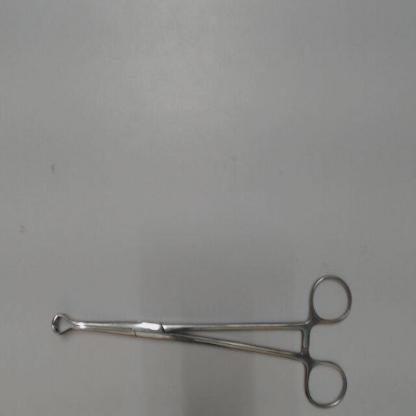8 Babcock Tissue Forceps: (48, 268, 360, 412)
